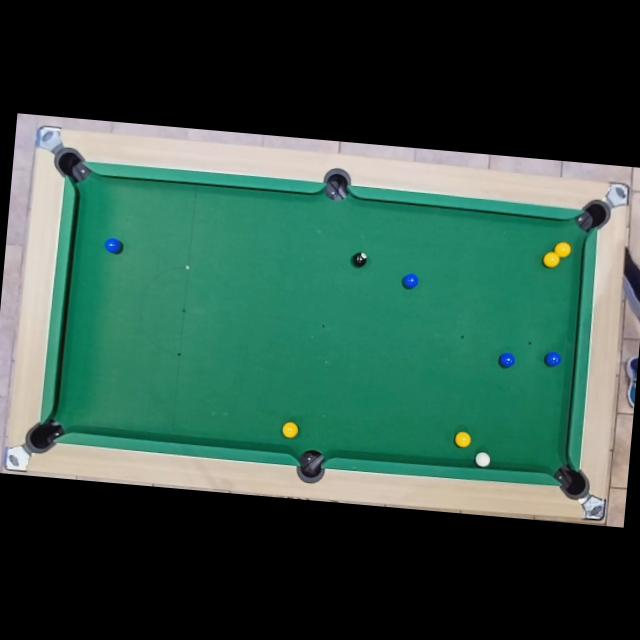Ball: (104, 238, 123, 255), (401, 273, 418, 290), (544, 351, 561, 368), (281, 421, 298, 438), (554, 243, 572, 259), (542, 252, 560, 268), (454, 432, 472, 448), (498, 352, 516, 368), (351, 250, 366, 268), (474, 452, 490, 468)
